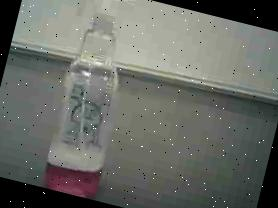hazard: (9, 0, 163, 205)
